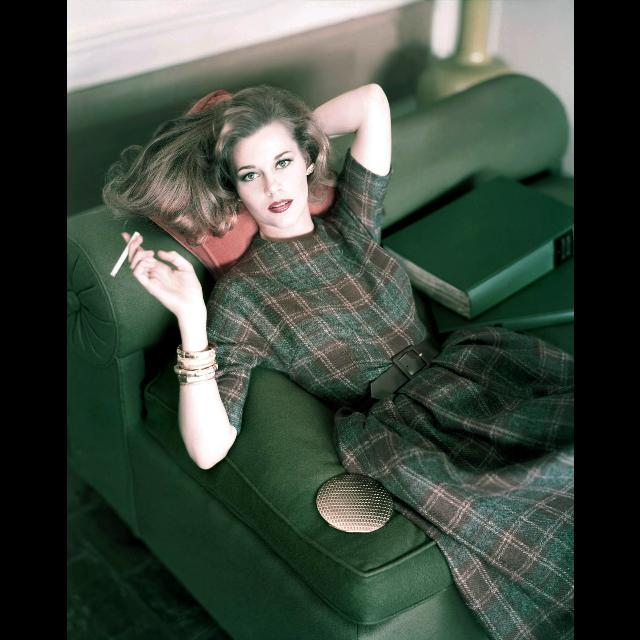rokok: (103, 228, 139, 278)
